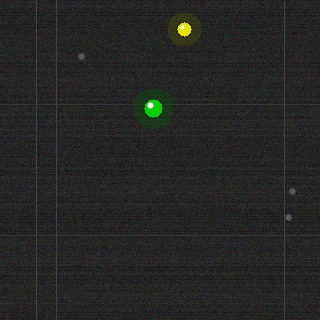green_normal: (142, 97, 164, 119)
yellow_warning: (175, 20, 193, 38)
